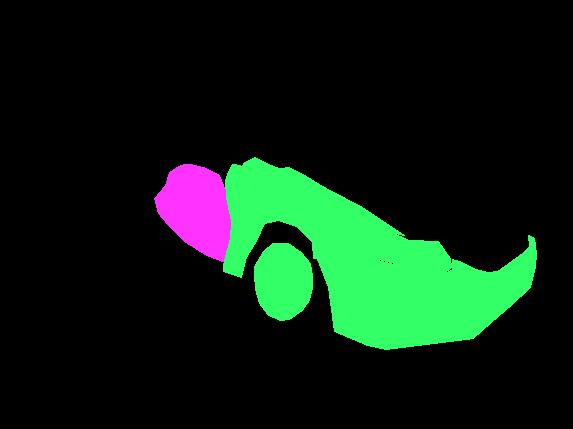Broken part: (312, 235, 536, 349), (223, 157, 404, 277), (254, 243, 312, 320), (355, 229, 451, 272)
Dent: (154, 164, 232, 262)
Scratch: (231, 189, 318, 227), (277, 186, 317, 211), (359, 277, 380, 299), (254, 175, 277, 194), (235, 216, 243, 243), (218, 208, 226, 232), (340, 274, 352, 288), (197, 199, 205, 205)
